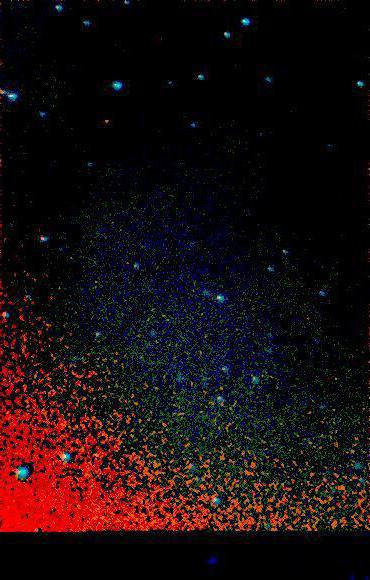star: (93, 108, 123, 138)
